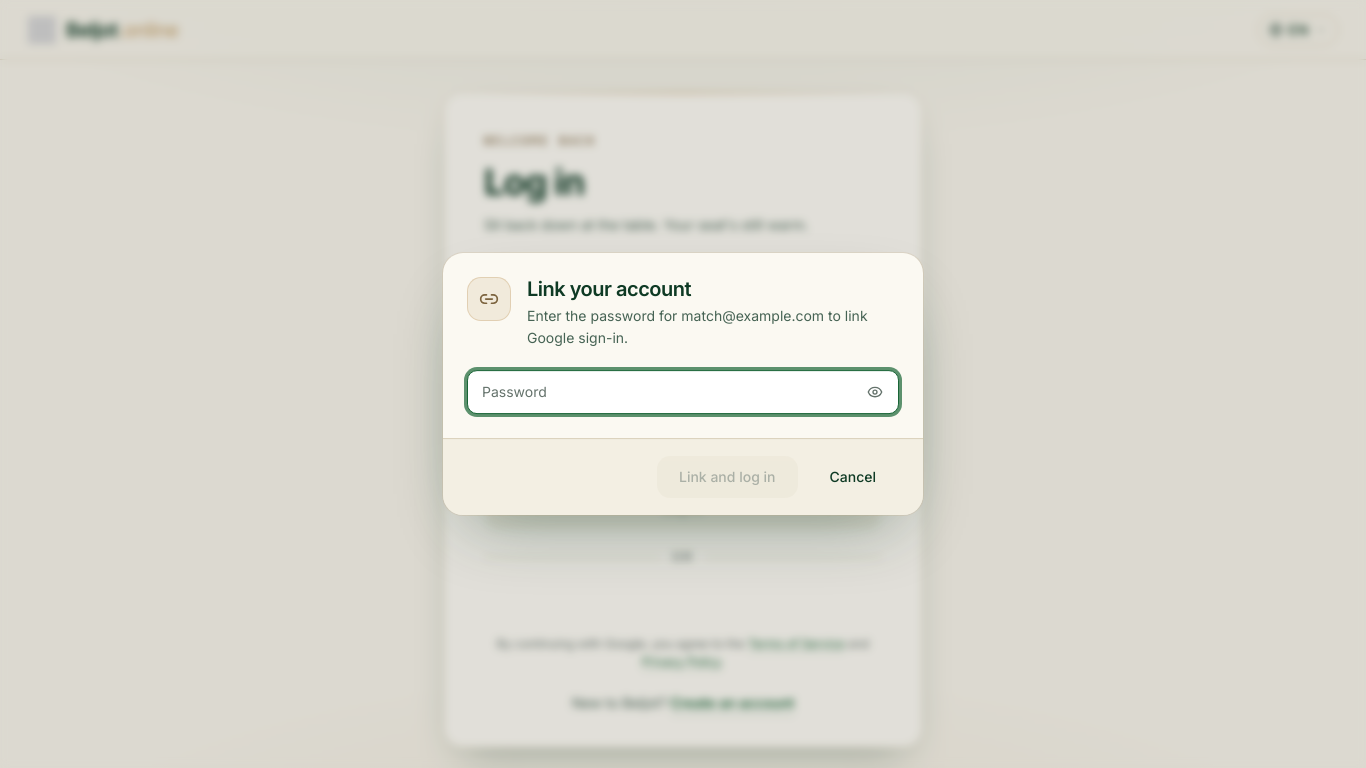
Test: LoginPage › Google SSO › shows an inline error and keeps the dialog open on a wrong password
Expected: the dialog with test id "link-account-dialog" is shown, x1=443 y1=253 x2=923 y2=515
Type "wrongpassword" into the password field with test id "link-account-password-input" at (683, 392), box x1=467 y1=370 x2=899 y2=414
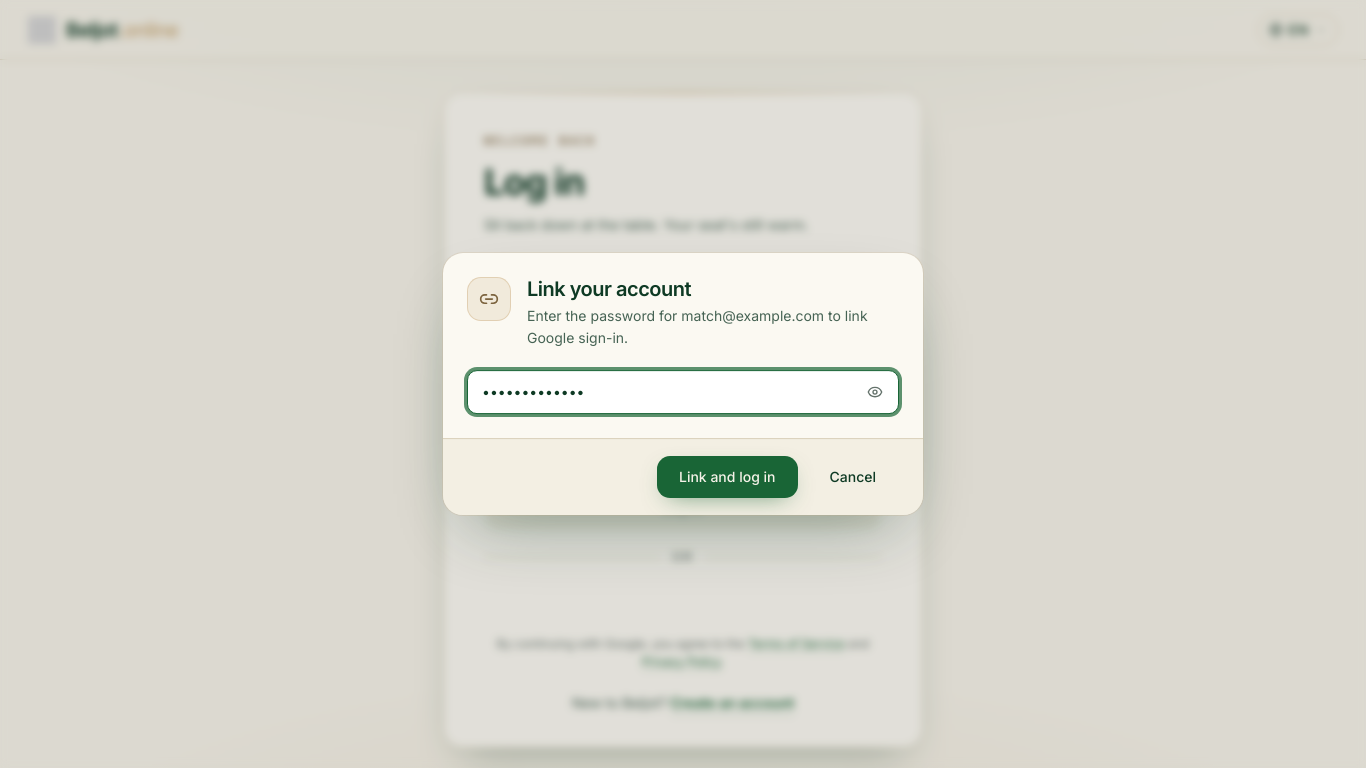
Click the button with test id "link-account-submit" at (727, 477), box x1=656 y1=455 x2=798 y2=499
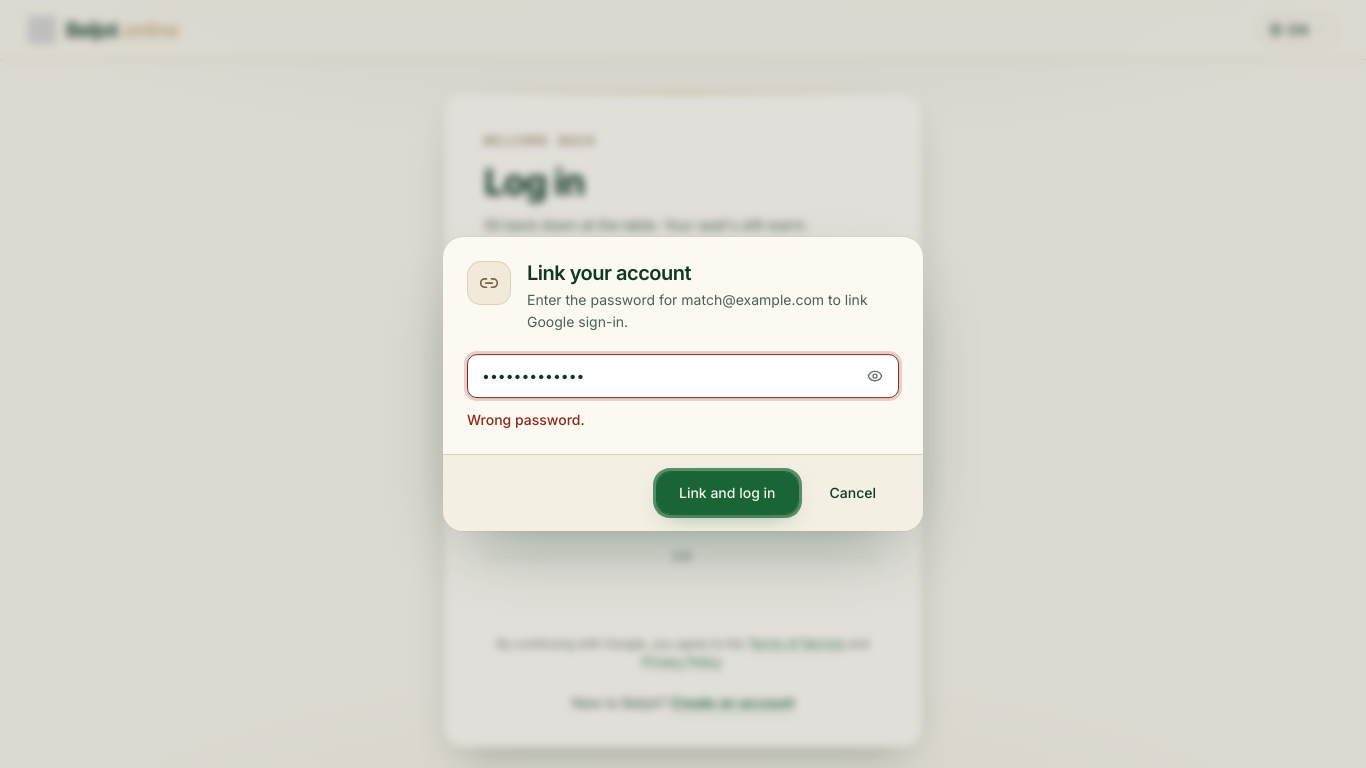
Expected: the dialog with test id "link-account-dialog" is shown, x1=443 y1=237 x2=923 y2=531
Result: the message with test id "link-account-error" reads "Wrong password." at x1=467 y1=411 x2=585 y2=428
